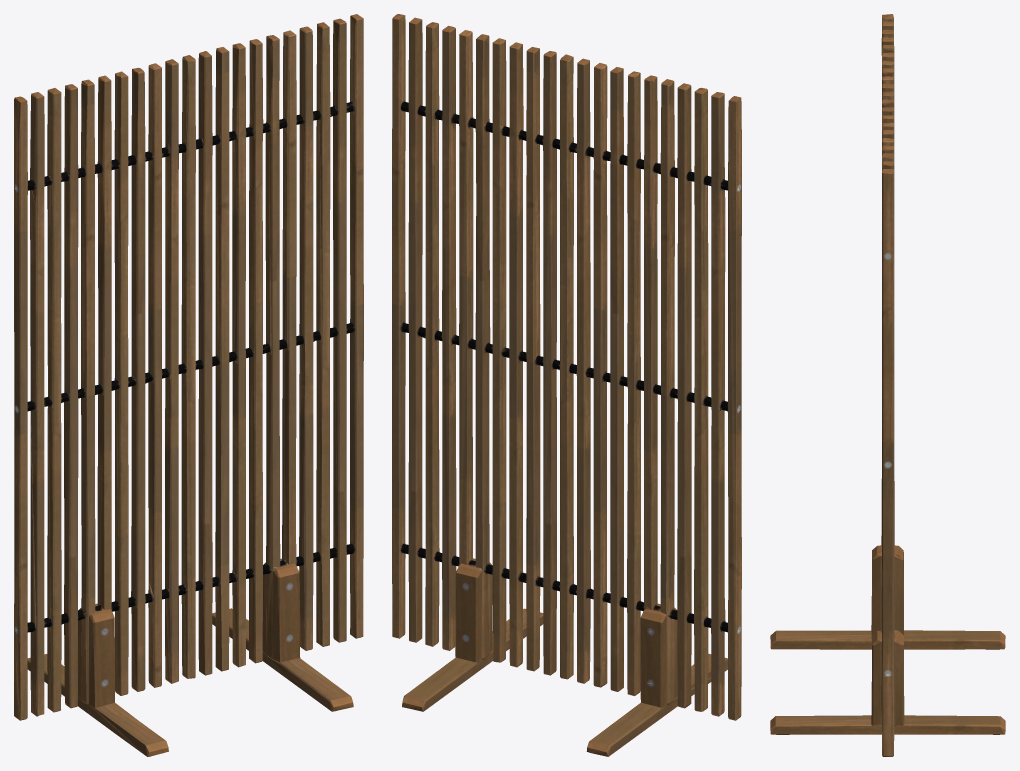
3 renders of one model, left to right at view 1: azimuth 30°, elevation 25°; view 2: azimuth 150°, elevation 25°; view 3: azimuth 270°, elevation 25°, orthographic. The views are drawn at different scales.
Parts seen in each view (by area): view 1: ProcessedGeometry; view 2: ProcessedGeometry; view 3: ProcessedGeometry.
Boxes of the visible parts, left/top/right/bottom form: ProcessedGeometry: left=14, top=14, right=363, bottom=756; ProcessedGeometry: left=392, top=14, right=741, bottom=756; ProcessedGeometry: left=770, top=14, right=1005, bottom=756.
Bounding box in the file's own units: 0.8 × 1.4 × 0.5.
1 material, 1 textured.
